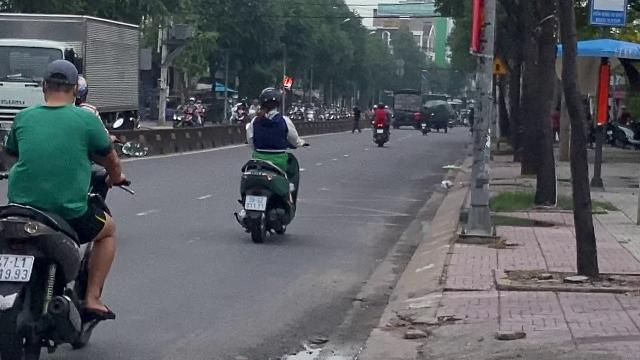helmet: (256, 88, 280, 112)
licenseplate: (0, 255, 32, 281), (244, 194, 266, 210)
motorcyclist: (0, 57, 130, 357), (232, 86, 304, 242)
nohelmet: (39, 59, 81, 105)
